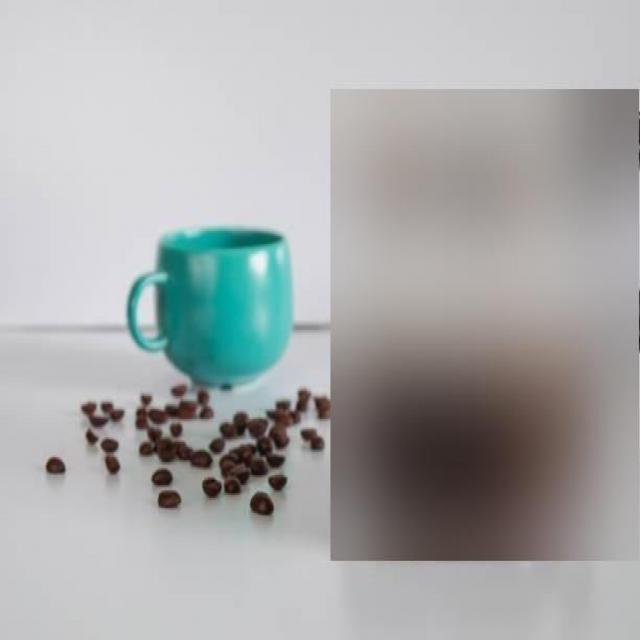cup-handle: (125, 226, 292, 384)
